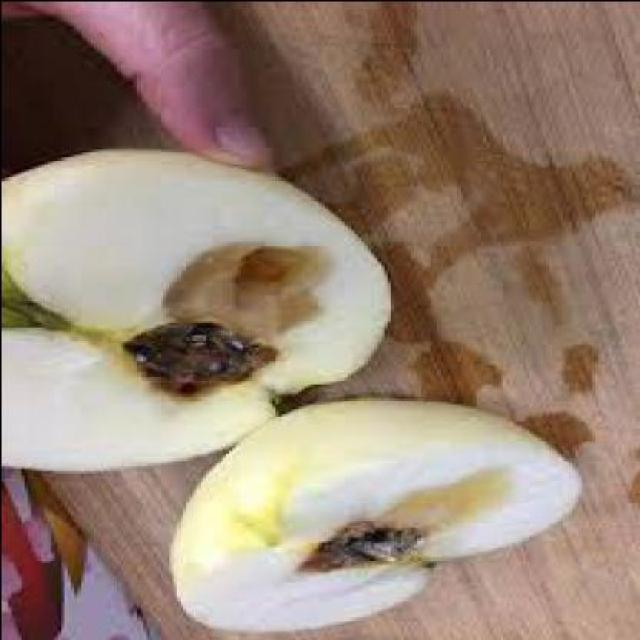BIODEGRADABLE: (1, 149, 388, 472), (168, 402, 580, 635)
